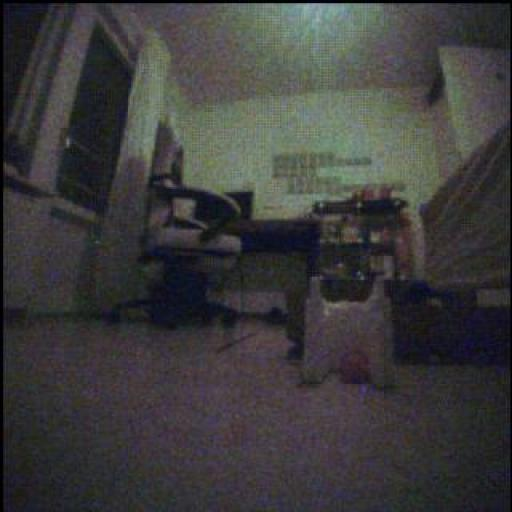basket: (339, 348, 373, 384)
